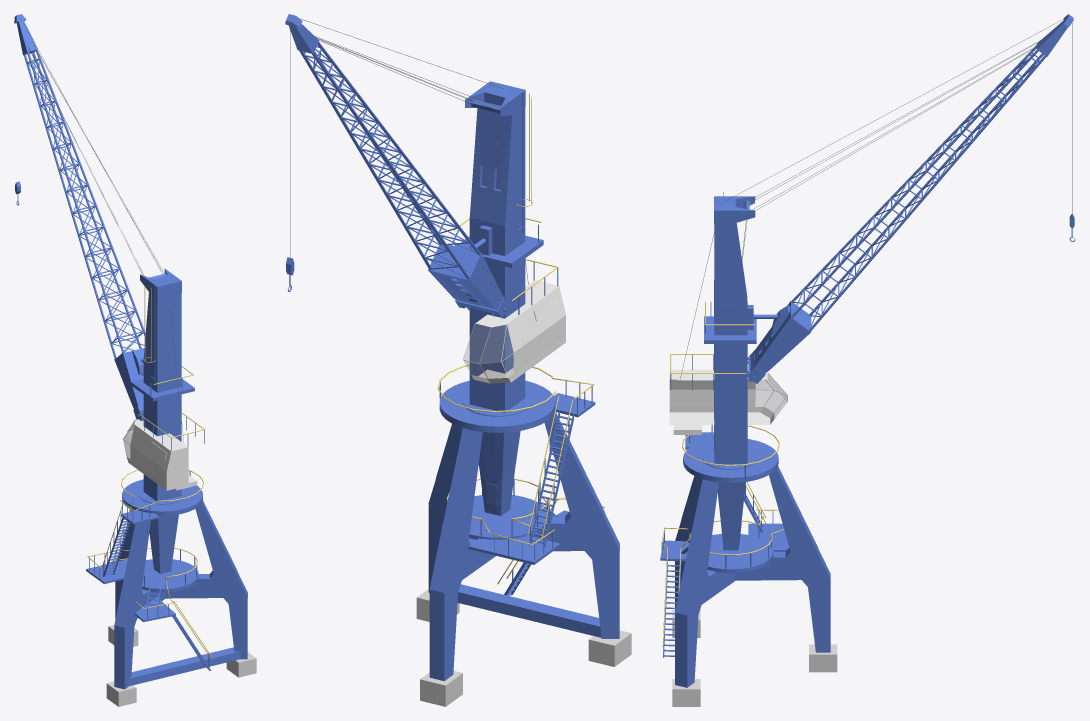
The model's file is crane_1.a4c1dc47.glb.
3 views of the same model, side by side, from view 1: azimuth 30°, elevation 25°; view 2: azimuth 150°, elevation 25°; view 3: azimuth 270°, elevation 25° (orthographic). The views are drawn at different scales.
Parts seen in each view (by area): view 1: Повротный, Цилиндр.012, Куб.032, Куб.003, Куб.001, Куб, Коуг 2, круг 1, Низ, Цилиндр.003, Верхушка, Куб.031 (+4 smaller); view 2: Повротный, Куб.002, Цилиндр.012, Куб.003, Куб.001, Цилиндр.003, Коуг 2, Куб, Низ, круг 1, Куб.004, Куб.032 (+8 smaller); view 3: Повротный, Цилиндр.012, Куб.002, Куб.032, Куб.001, Коуг 2, Цилиндр.003, круг 1, Низ, Верхушка, Куб.003, Куб.004 (+2 smaller).
Part boxes in pixels (left/top/right/bottom): Повротный: left=143, top=292, right=181, bottom=573; Цилиндр.012: left=23, top=49, right=145, bottom=358; Куб.032: left=165, top=500, right=247, bottom=659; Куб.003: left=114, top=520, right=165, bottom=689; Куб.001: left=123, top=419, right=188, bottom=490; Куб: left=128, top=647, right=240, bottom=686; Коуг 2: left=122, top=479, right=202, bottom=515; круг 1: left=142, top=559, right=198, bottom=592; Низ: left=106, top=625, right=256, bottom=706; Цилиндр.003: left=114, top=348, right=144, bottom=419; Верхушка: left=140, top=268, right=181, bottom=298; Куб.031: left=130, top=378, right=194, bottom=401; Повротный: left=469, top=107, right=525, bottom=515; Куб.002: left=429, top=428, right=495, bottom=681; Цилиндр.012: left=299, top=42, right=480, bottom=279; Куб.003: left=533, top=412, right=619, bottom=638; Куб.001: left=463, top=280, right=565, bottom=383; Цилиндр.003: left=428, top=245, right=508, bottom=318; Коуг 2: left=439, top=380, right=555, bottom=432; Куб: left=457, top=584, right=601, bottom=637; Низ: left=416, top=589, right=631, bottom=706; круг 1: left=469, top=495, right=548, bottom=539; Куб.004: left=463, top=324, right=513, bottom=378; Куб.032: left=428, top=423, right=462, bottom=592; Повротный: left=714, top=223, right=747, bottom=550; Цилиндр.012: left=791, top=45, right=1046, bottom=331; Куб.002: left=735, top=466, right=830, bottom=652; Куб.032: left=675, top=479, right=735, bottom=687; Куб.001: left=669, top=369, right=787, bottom=424; Коуг 2: left=683, top=439, right=778, bottom=482; Цилиндр.003: left=747, top=301, right=811, bottom=383; круг 1: left=707, top=534, right=773, bottom=573; Низ: left=672, top=610, right=837, bottom=706; Верхушка: left=714, top=196, right=755, bottom=224; Куб.003: left=675, top=476, right=712, bottom=610; Куб.004: left=755, top=373, right=787, bottom=418.
Bounding box in the file's own units: 12.11 × 46.33 × 26.77.
6 materials, 2 textured.
